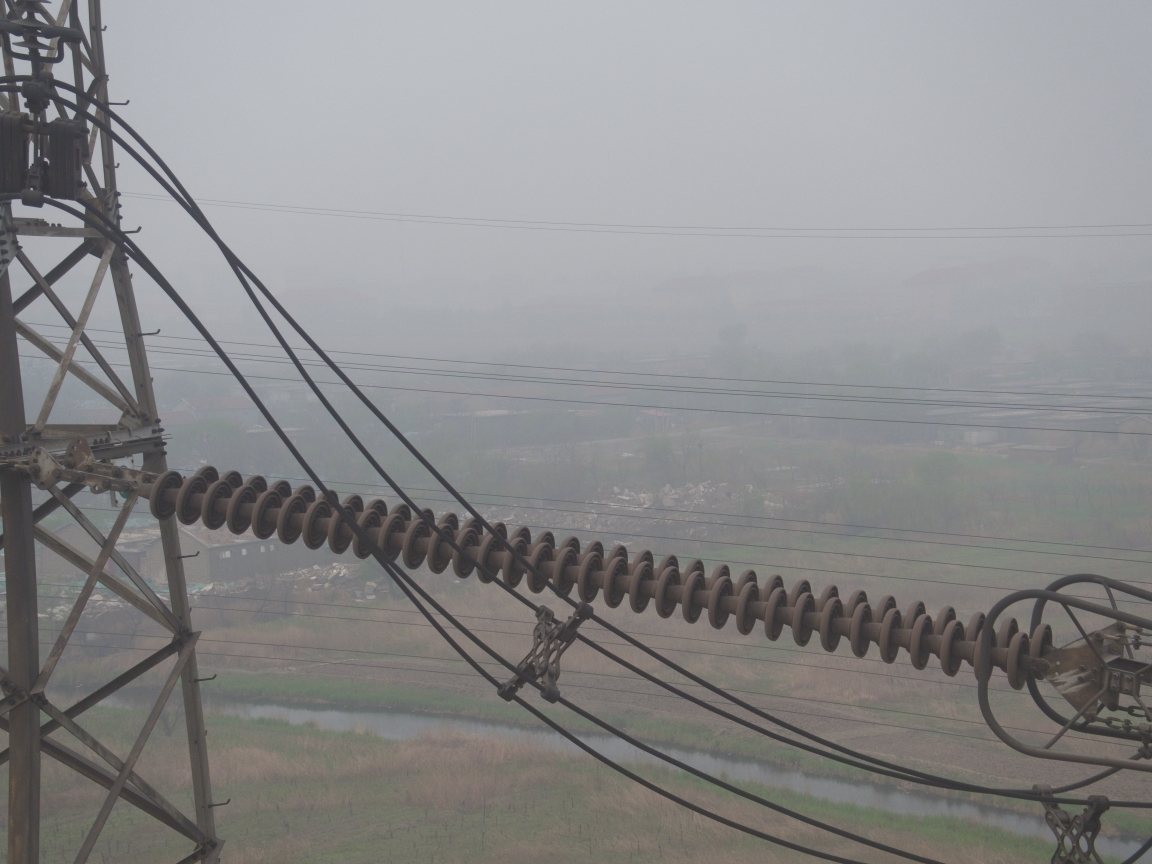insulator: (88, 458, 1077, 697)
